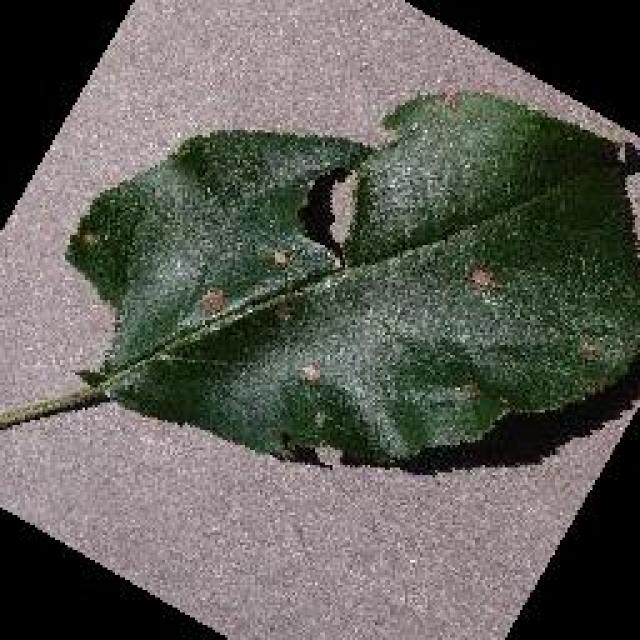Black_rot: (65, 90, 637, 468)
